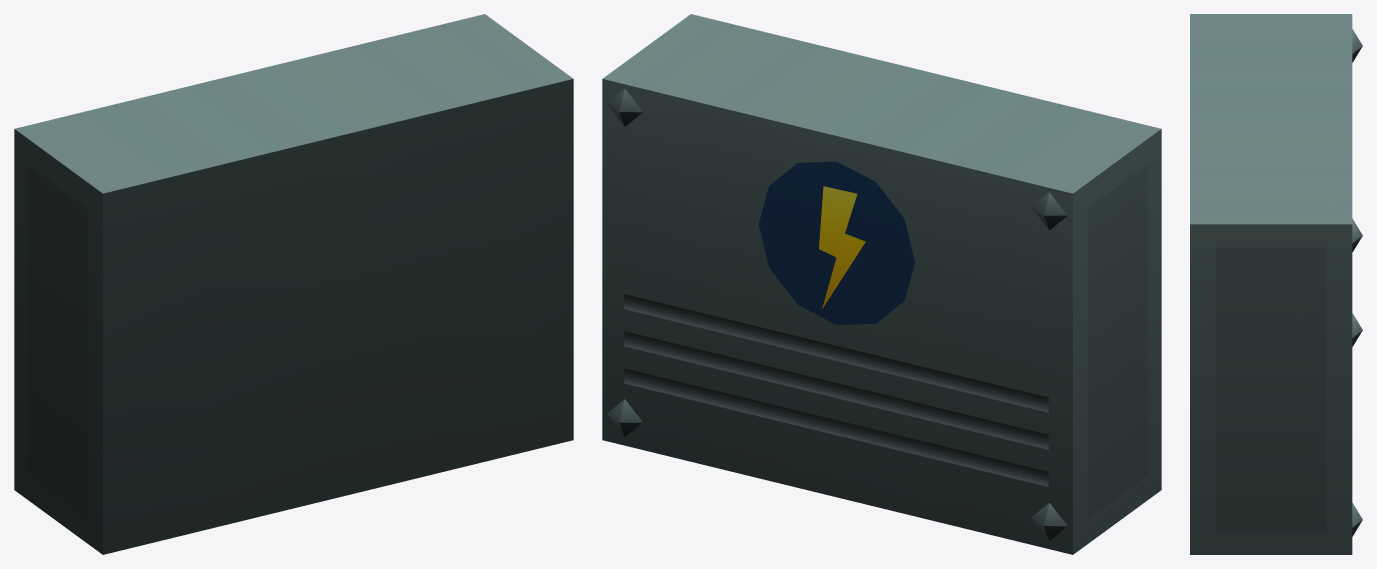
The model's file is Power_Box_1A.fbx.
3 views of the same model, side by side, from view 1: azimuth 30°, elevation 25°; view 2: azimuth 150°, elevation 25°; view 3: azimuth 270°, elevation 25° (orthographic). The views are drawn at different scales.
Visible parts, largest first — view 1: Power_Box_1A; view 2: Power_Box_1A; view 3: Power_Box_1A.
Boxes of the visible parts, box(x1,y1,x2,y2) form: Power_Box_1A: box(14, 14, 573, 554); Power_Box_1A: box(602, 14, 1161, 554); Power_Box_1A: box(1190, 14, 1362, 554).
Size of the model in its own units: 1.84 by 1.35 by 0.6396.
